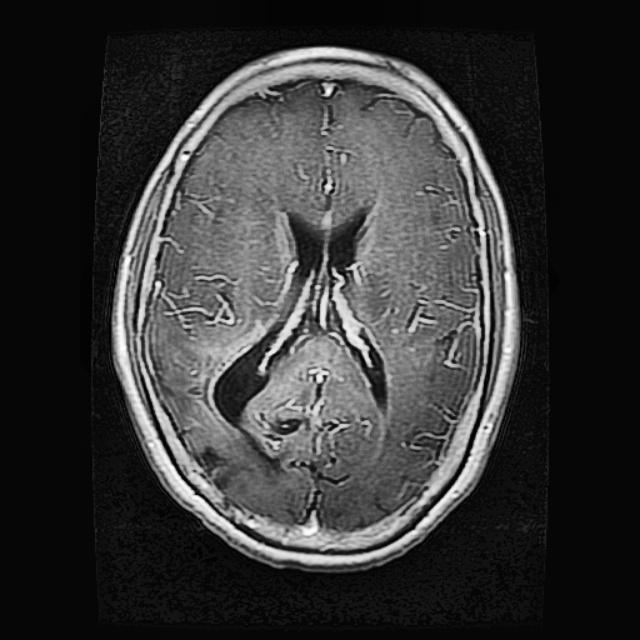Glioma: (160, 375, 312, 522)
